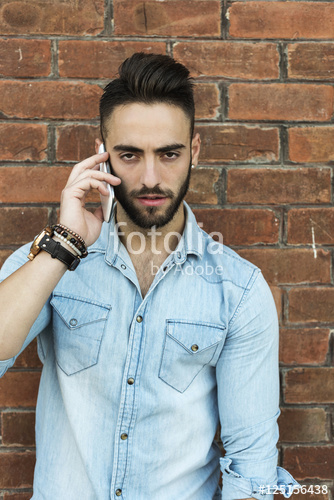phone: (94, 136, 115, 218)
talk: (58, 130, 194, 249)
